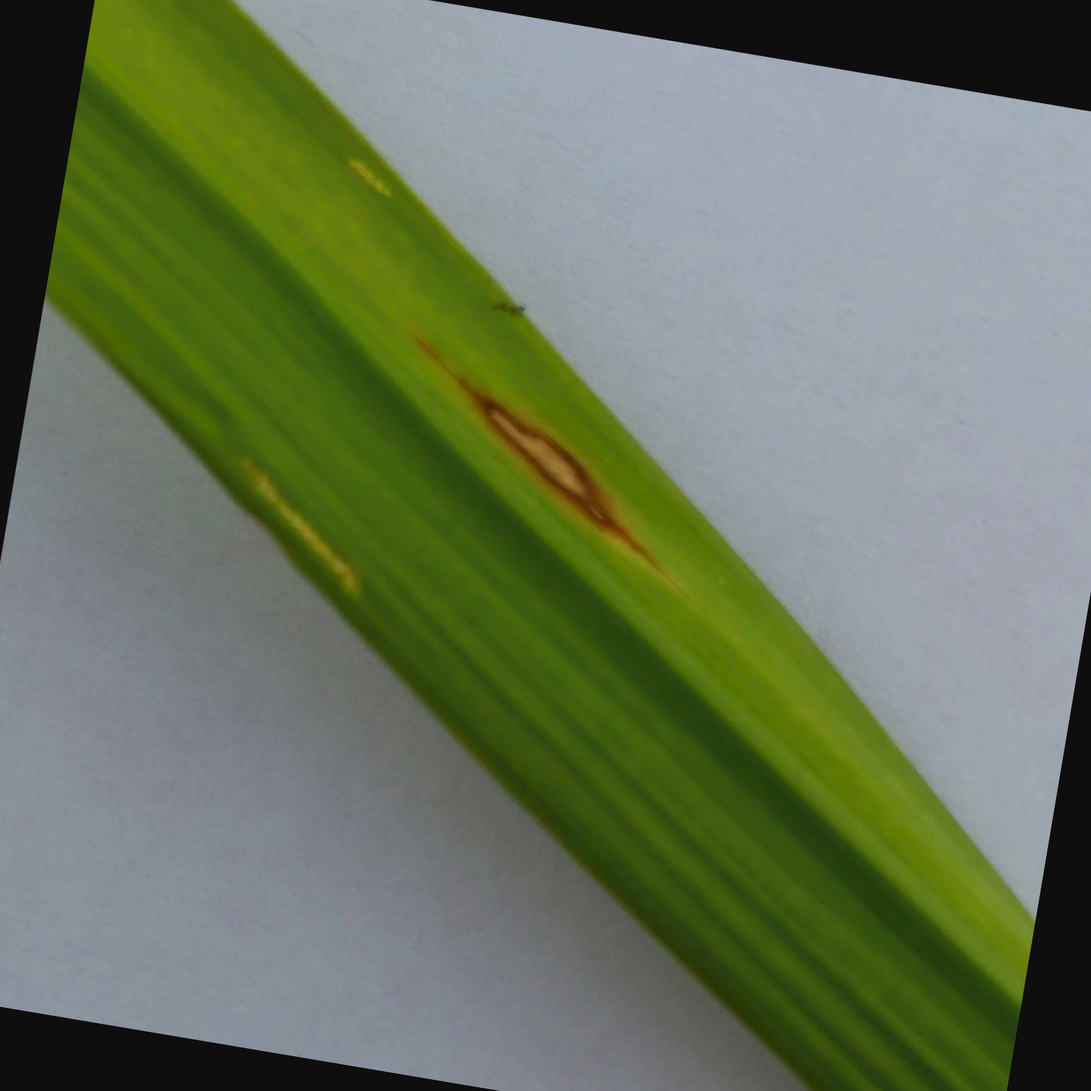Brown_Spot: (390, 346, 679, 548)
